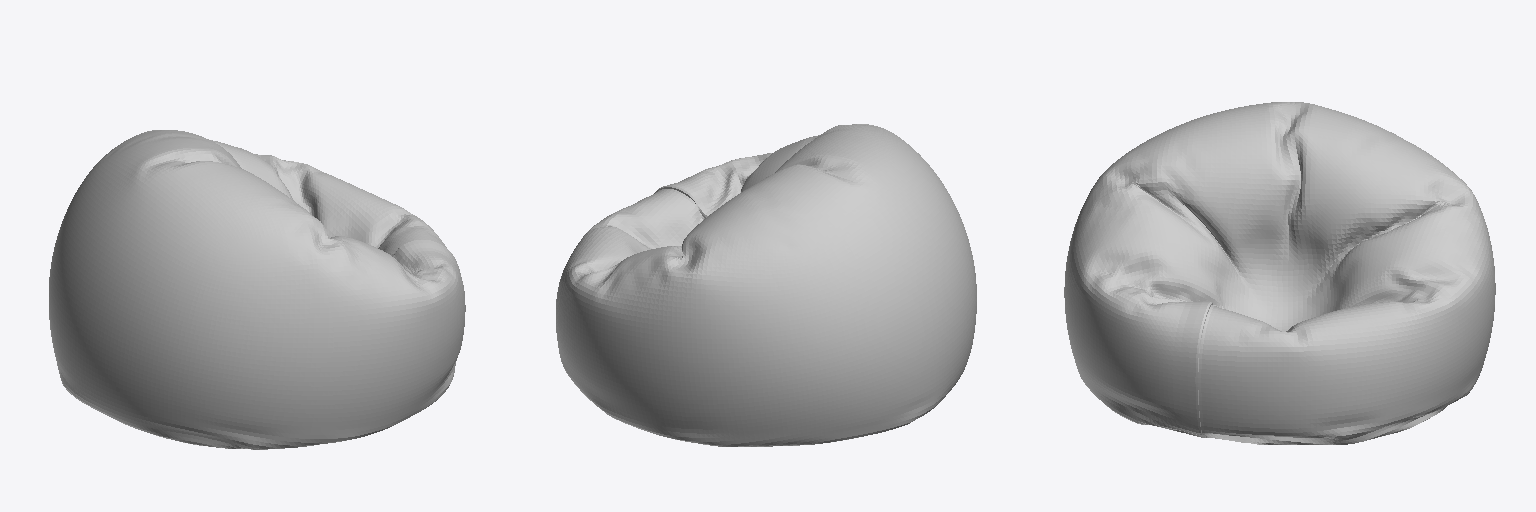
The model's file is beanbag.obj.
3 renders of one model, left to right at view 1: azimuth 30°, elevation 25°; view 2: azimuth 150°, elevation 25°; view 3: azimuth 270°, elevation 25°, orthographic.
Parts seen in each view (by area): view 1: Bean_bag_Cube; view 2: Bean_bag_Cube; view 3: Bean_bag_Cube.
Part boxes in pixels (x1,y1,x2,y2): Bean_bag_Cube: (49, 130, 465, 449); Bean_bag_Cube: (556, 124, 976, 446); Bean_bag_Cube: (1064, 102, 1495, 444).
Bounding box in the file's own units: 1.67 × 1 × 1.75.